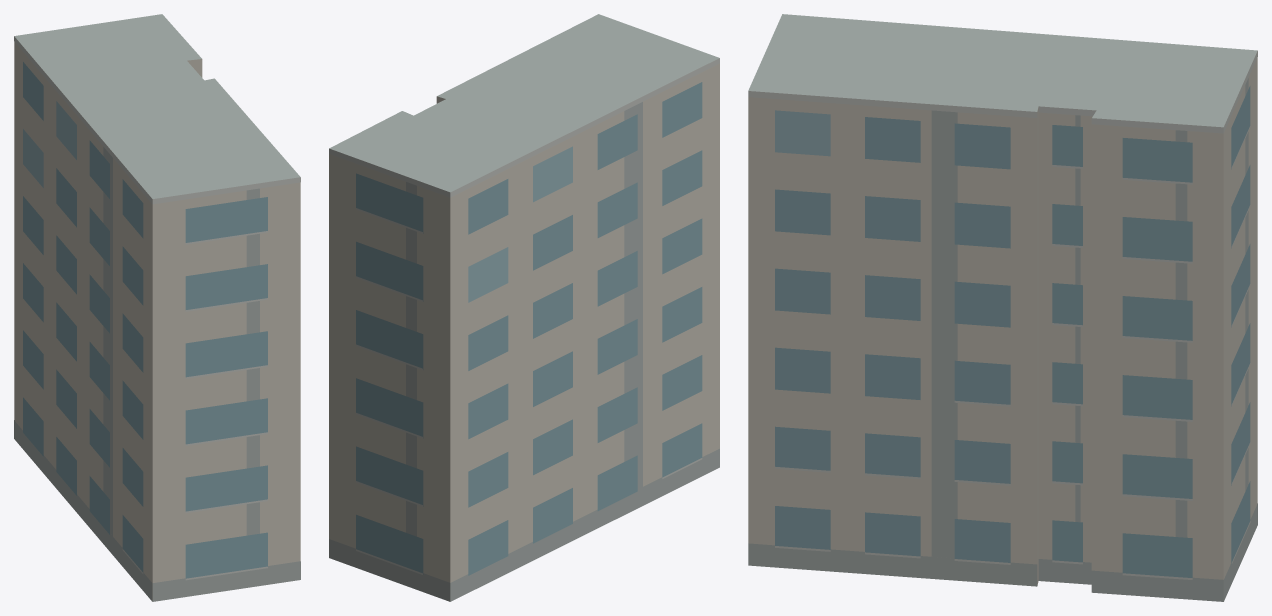
The model's file is survey-upis-32988041.glb.
The picture shows the model from 3 angles, left to right: view 1: azimuth 30°, elevation 25°; view 2: azimuth 150°, elevation 25°; view 3: azimuth 270°, elevation 25°; orthographic projection. The views are drawn at different scales.
Visible parts, largest first — view 1: survey-upis-32988041.tmp; view 2: survey-upis-32988041.tmp; view 3: survey-upis-32988041.tmp.
Part boxes in pixels (bbox=[...]): survey-upis-32988041.tmp: bbox=[14, 14, 300, 601]; survey-upis-32988041.tmp: bbox=[329, 14, 719, 601]; survey-upis-32988041.tmp: bbox=[748, 14, 1257, 601].
Bounding box in the file's own units: 9.59 × 18.7 × 18.21.
